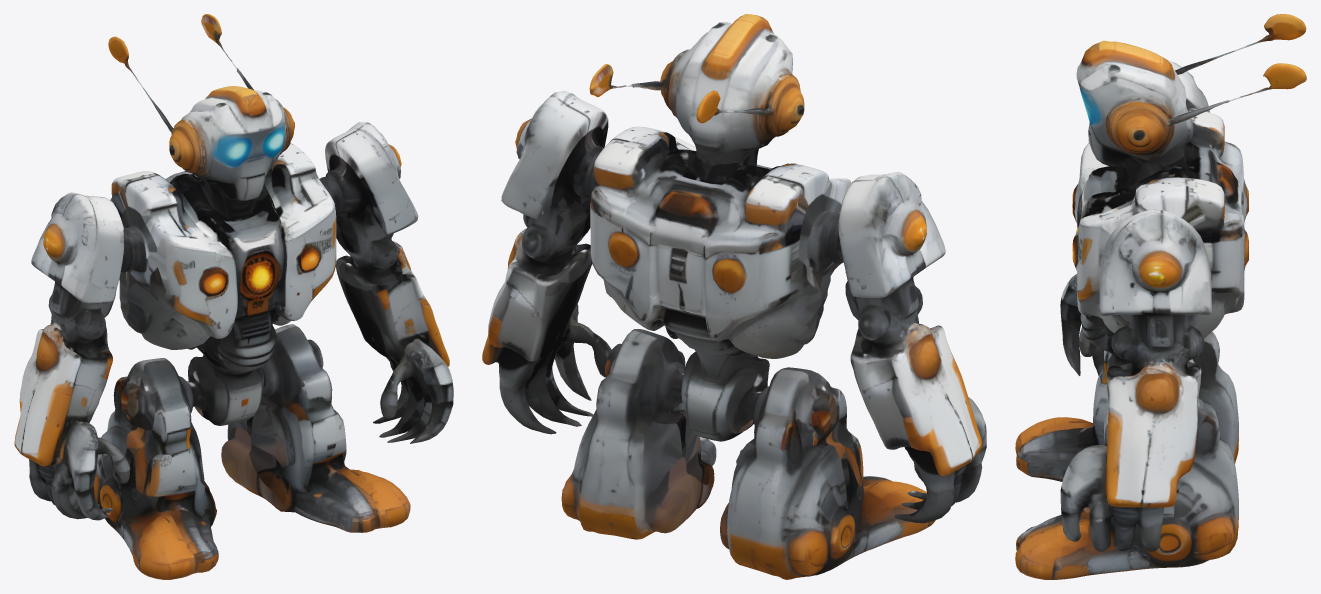
The model's file is base_basic_shaded.glb.
3 views of the same model, side by side, from view 1: azimuth 30°, elevation 25°; view 2: azimuth 150°, elevation 25°; view 3: azimuth 270°, elevation 25° (orthographic). The views are drawn at different scales.
Visible parts, largest first — view 1: model; view 2: model; view 3: model.
Part boxes in pixels (x1,y1,x2,y2): model: (14, 14, 453, 579); model: (482, 14, 986, 579); model: (1015, 14, 1306, 579).
Size of the model in its own units: 1.9 by 1.89 by 1.05.
Materials: 1 (1 with a texture image).
